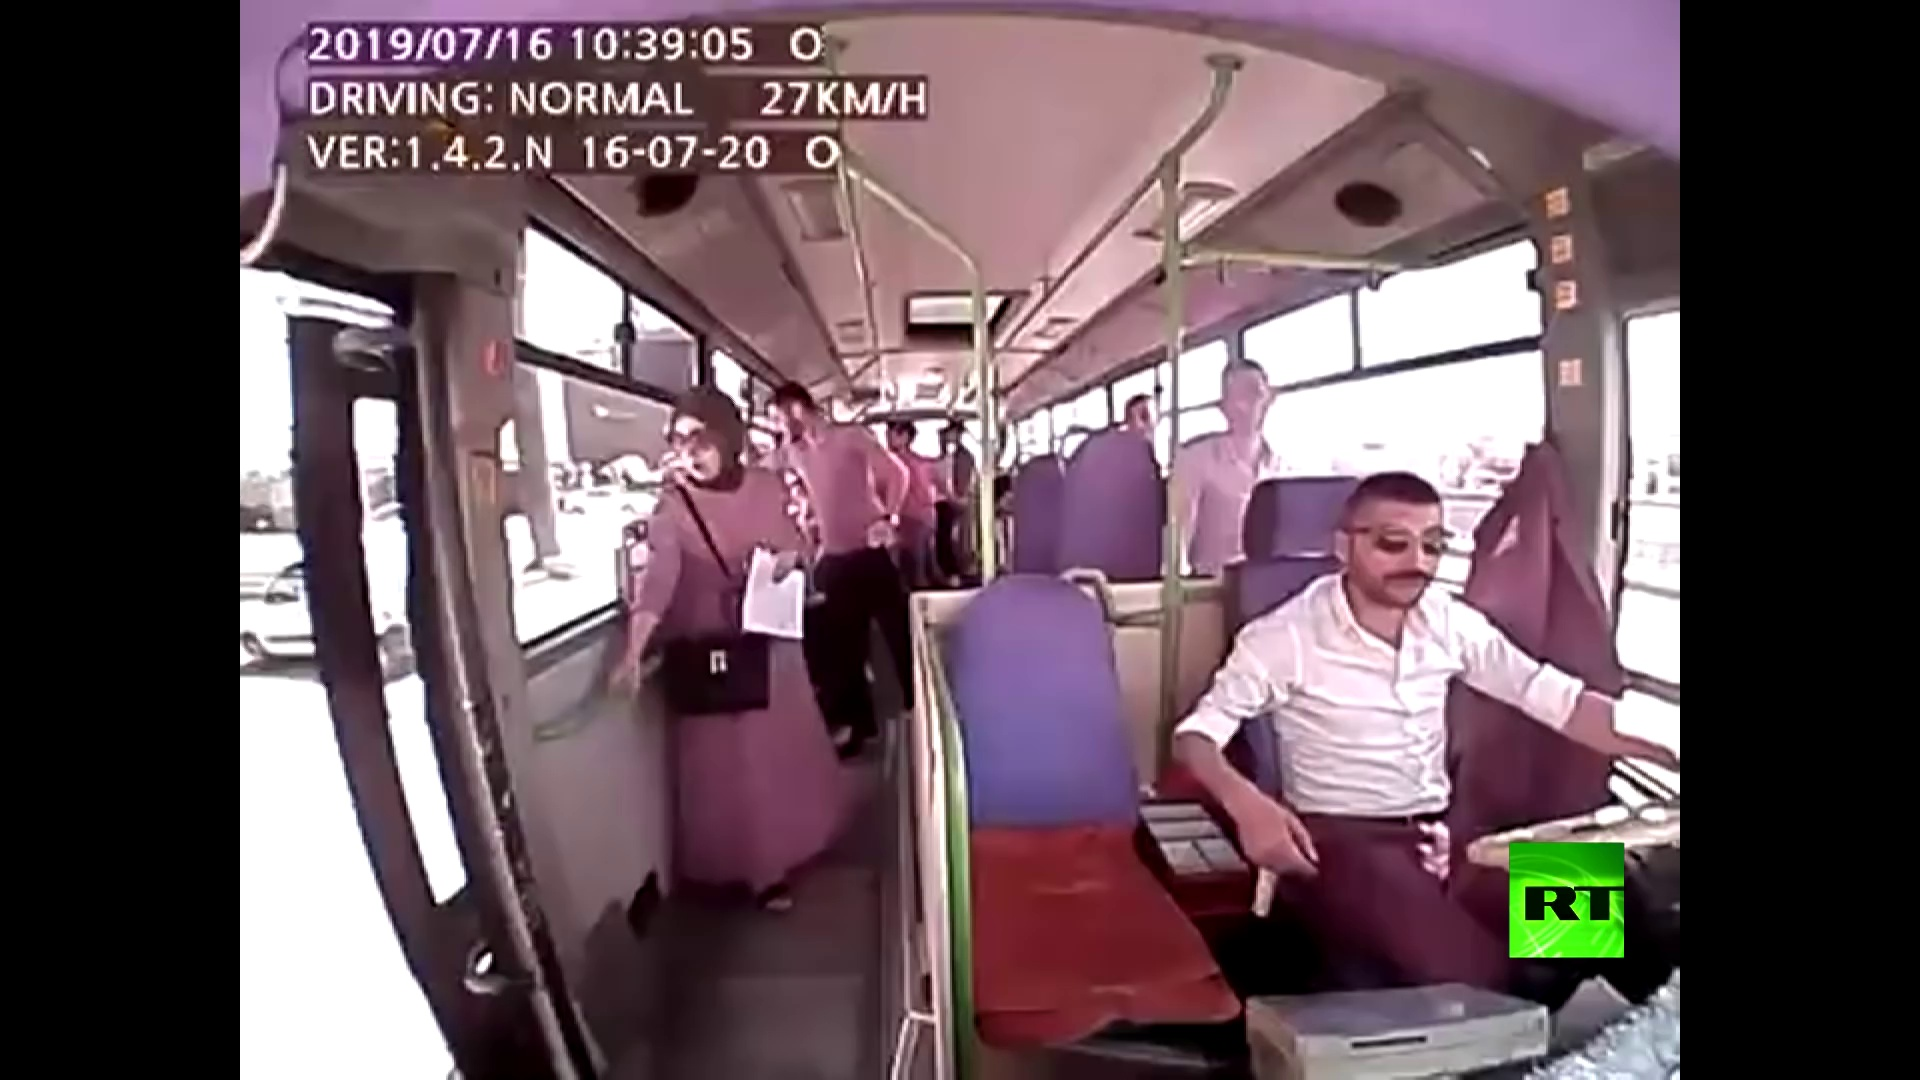face: (1364, 500, 1437, 593), (672, 406, 716, 488), (756, 391, 807, 452), (1221, 373, 1274, 425)
